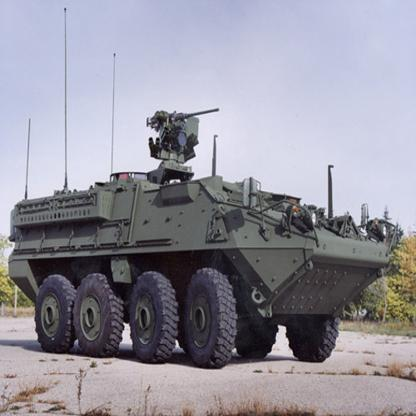Tank: (5, 106, 403, 370)
